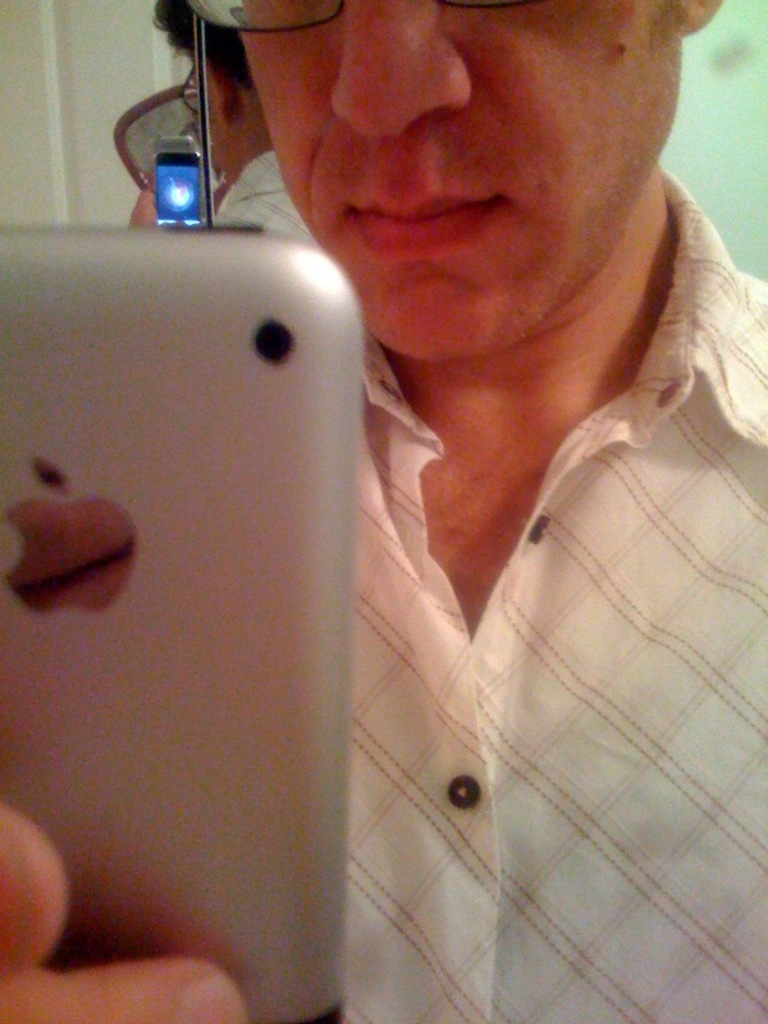Mobile-phone: (45, 173, 370, 1006)
